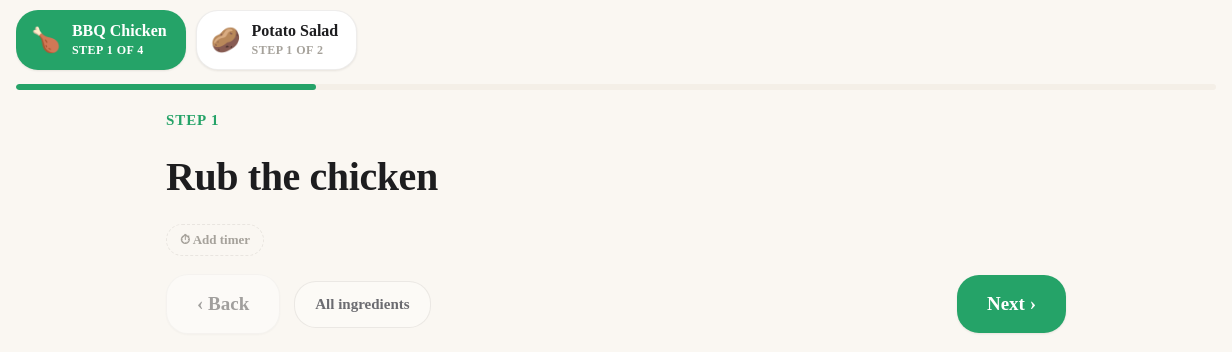
CookMode — cooking a plate › advances only the active dish — the other dish stays where it was
Expected: the text "Rub the chicken" is shown, [166,151,438,202]
Click the button "Next ›" at (1011, 304), box [957,275,1066,333]
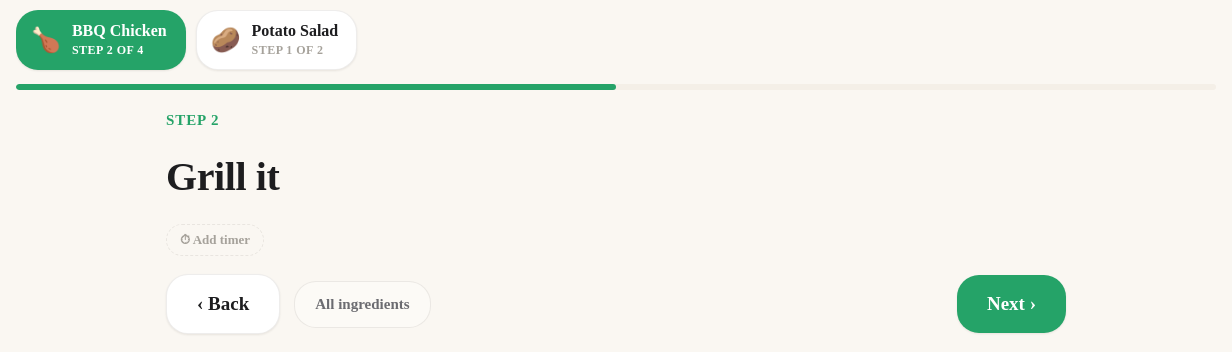
Now the text "Grill it" is shown, box [166,151,280,202]
Click the button "Next ›" at (1011, 304), box [957,275,1066,333]
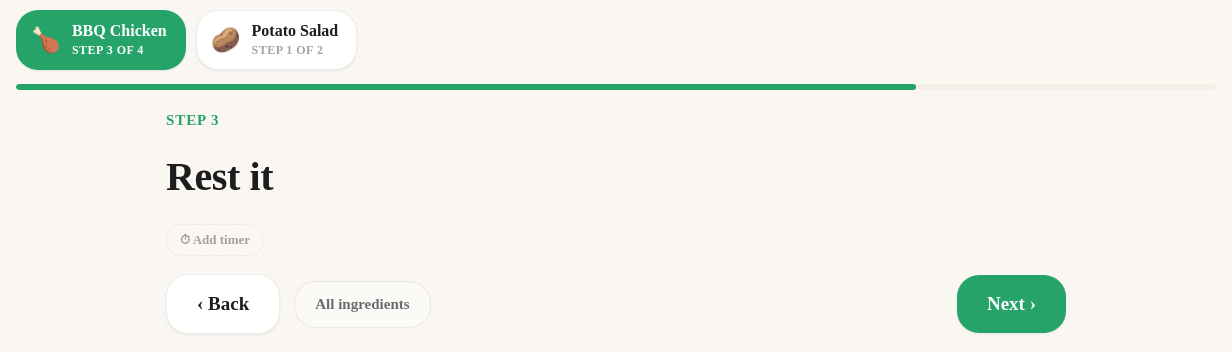
Expected: the tab "🥔 Potato Salad Step 1 of 2" is shown, [196,10,357,70]
Now the text "Rest it" is shown, box [166,151,273,202]
Now the tab "🍗 BBQ Chicken Step 3 of 4" is shown, box [16,10,186,70]
